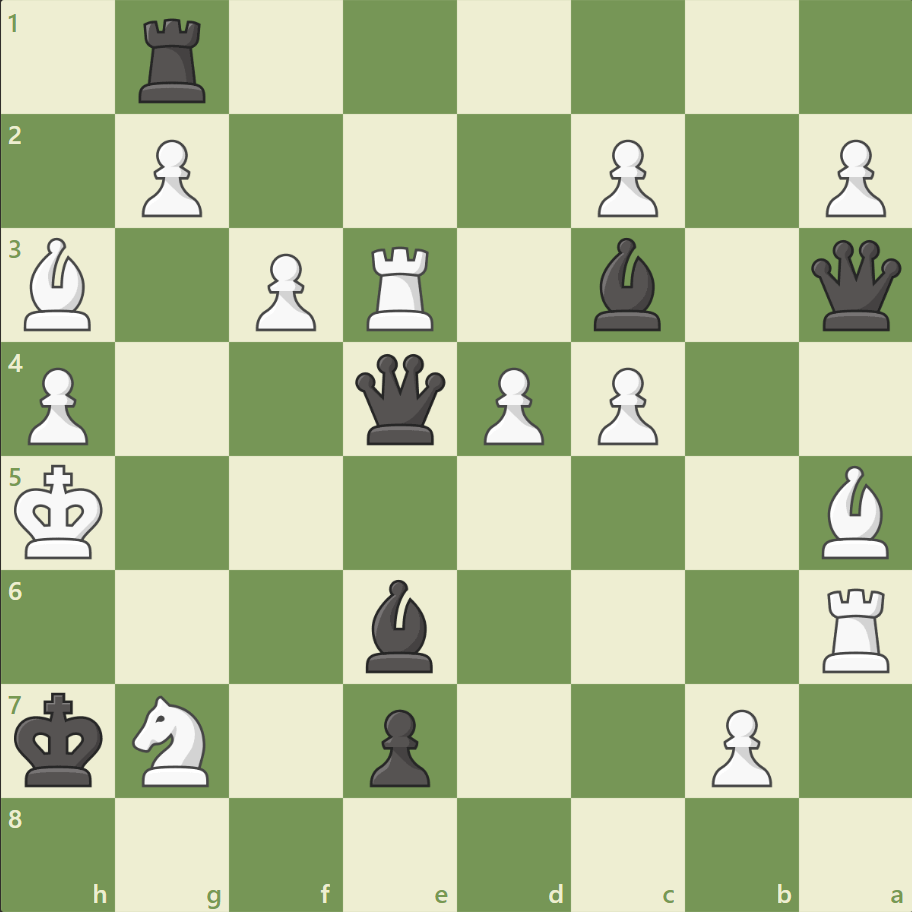B: (812, 460, 896, 563), (17, 233, 101, 336)
K: (11, 458, 111, 566)
N: (124, 688, 222, 791)
P: (701, 700, 776, 791), (474, 359, 549, 450), (20, 359, 95, 450), (247, 246, 322, 337), (133, 132, 208, 223), (588, 359, 662, 450), (815, 132, 889, 223), (588, 132, 662, 223)
R: (814, 579, 897, 676), (360, 239, 442, 336)
b: (585, 233, 669, 336), (358, 574, 442, 676)
k: (11, 685, 111, 793)
p: (361, 700, 435, 791)
q: (351, 349, 450, 449), (805, 236, 904, 335)
r: (133, 12, 215, 109)
